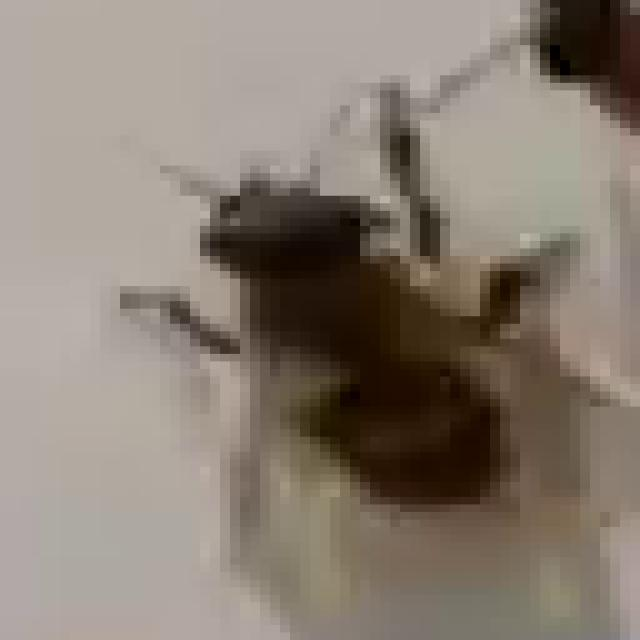honeybee: (155, 143, 553, 497)
